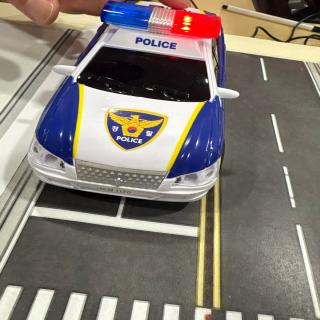Police_car: (28, 1, 239, 202)
